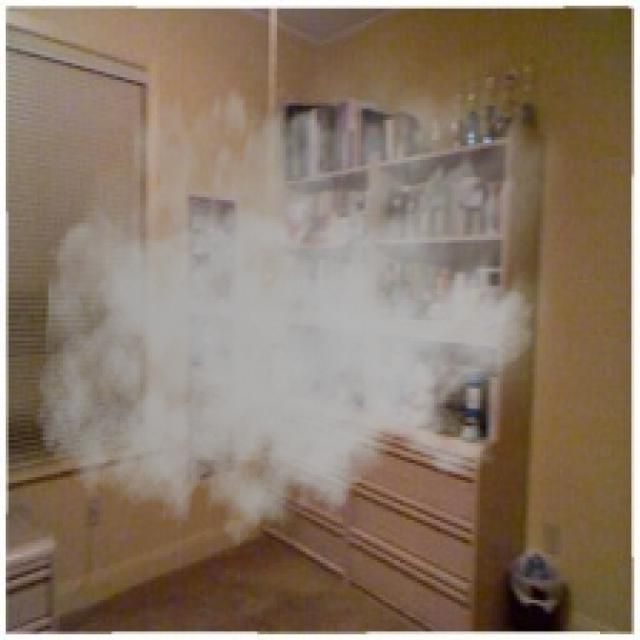Smoke: (34, 26, 586, 563)
